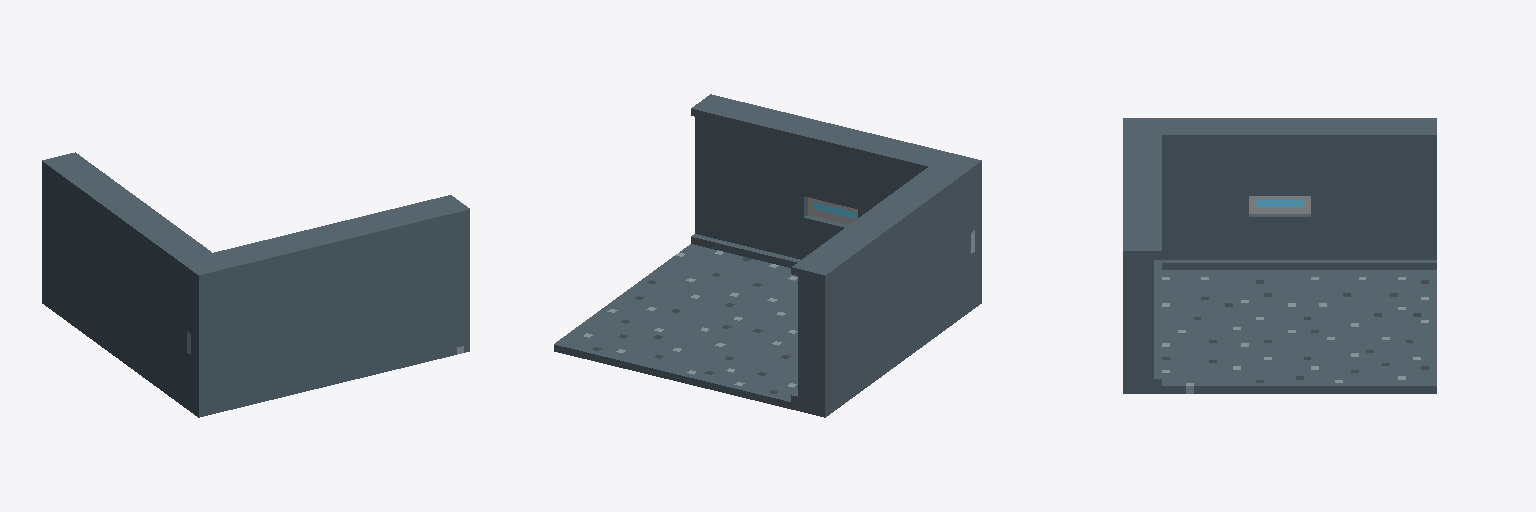
3 views of the same model, side by side, from view 1: azimuth 30°, elevation 25°; view 2: azimuth 150°, elevation 25°; view 3: azimuth 270°, elevation 25° (orthographic).
Visible parts, largest first — view 1: object 1; view 2: object 1; view 3: object 1.
Boxes of the visible parts, x1,y1,x2,y2 form: object 1: [42, 152, 469, 417]; object 1: [554, 94, 981, 417]; object 1: [1123, 118, 1436, 393].
Bounding box in the file's own units: 4 × 2 × 4.
1 materials, 1 textured.